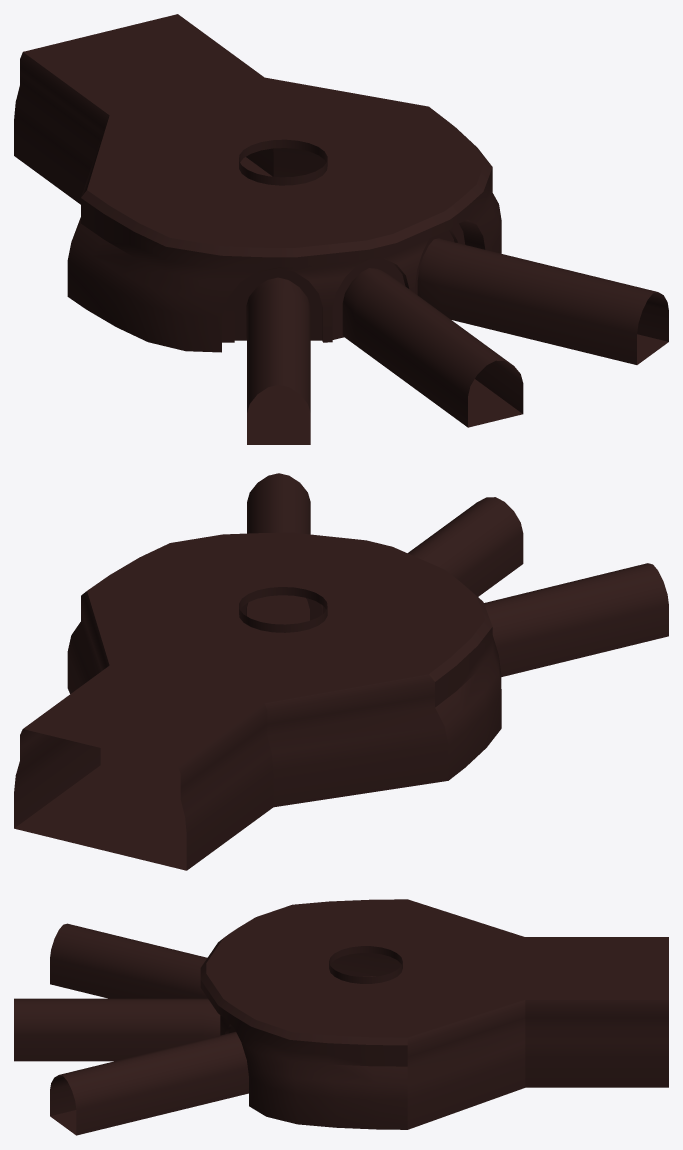
Rendered from Devils Hall.fbx.
The picture shows the model from 3 angles, top to bottom: view 1: azimuth 30°, elevation 25°; view 2: azimuth 150°, elevation 25°; view 3: azimuth 270°, elevation 25°; orthographic projection. The views are drawn at different scales.
Parts seen in each view (by area): view 1: Devils Hall; view 2: Devils Hall; view 3: Devils Hall.
Part boxes in pixels (x1,y1,x2,y2): Devils Hall: (14,14,668,444); Devils Hall: (14,473,668,870); Devils Hall: (14,899,668,1135).
Bounding box in the file's own units: 2381 × 594 × 3863.
